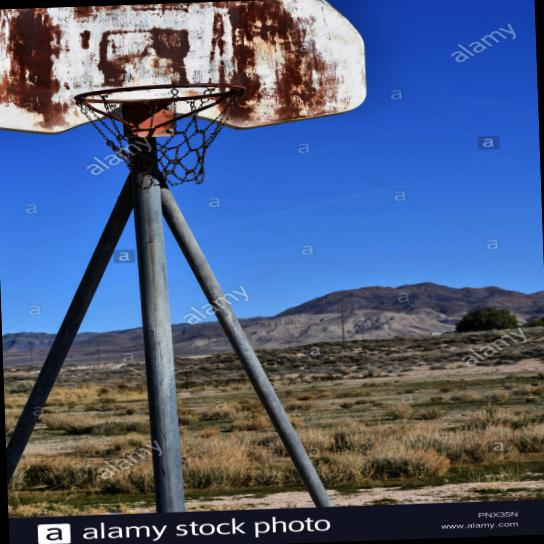basketball-hoop: (73, 82, 248, 191)
